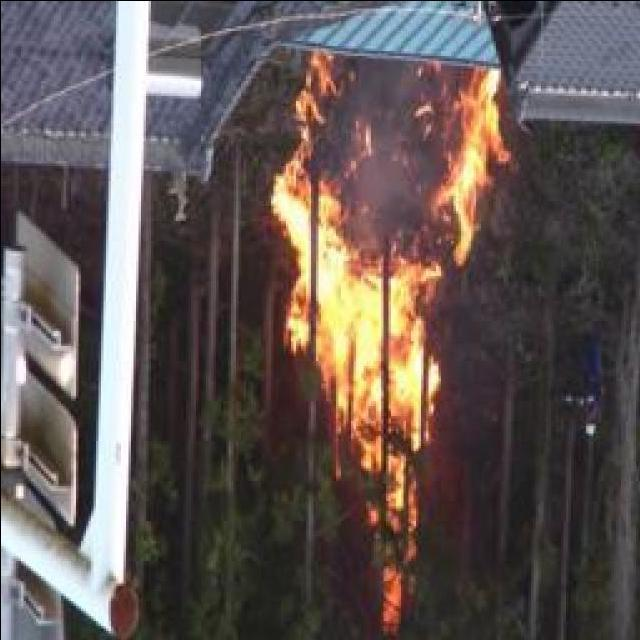Fire: (278, 54, 500, 578)
